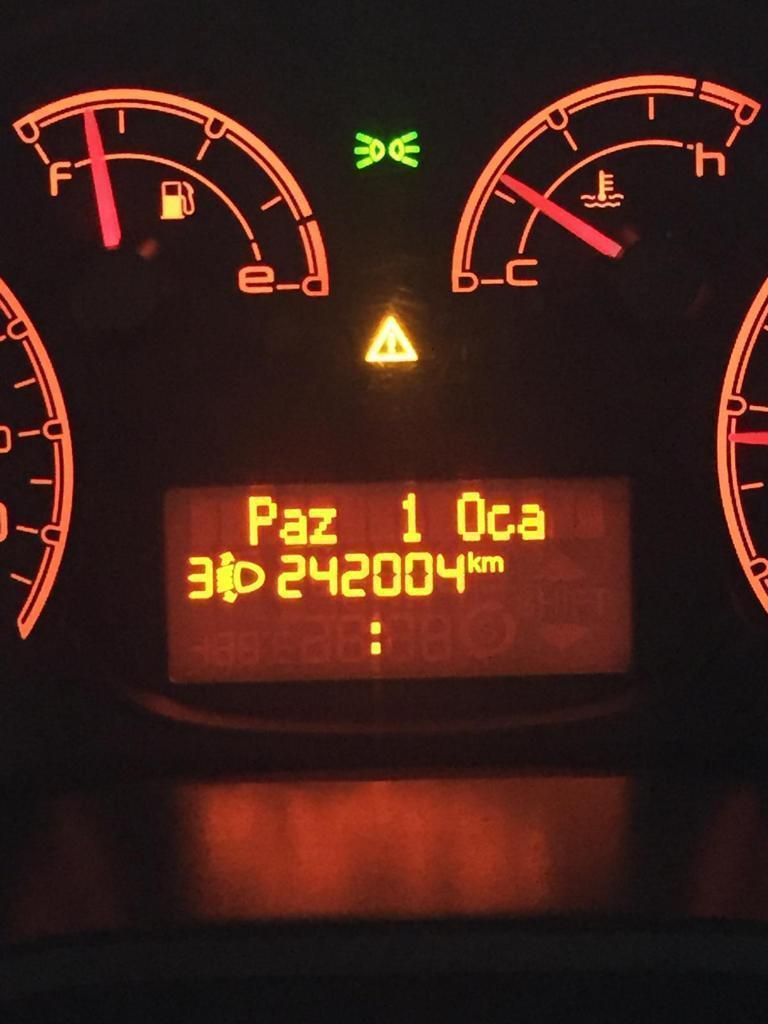0: (372, 549, 402, 599), (403, 551, 432, 599)
1: (398, 487, 427, 549)
2: (341, 549, 370, 602), (276, 553, 306, 604)
3: (186, 554, 216, 601)
4: (433, 544, 467, 599), (308, 548, 340, 602)
X: (246, 491, 277, 548), (456, 489, 484, 544), (486, 502, 515, 543), (517, 502, 546, 541), (309, 506, 337, 545), (279, 507, 307, 546), (365, 616, 386, 663), (481, 553, 504, 574), (467, 550, 480, 574)
odometer: (156, 475, 641, 687)
